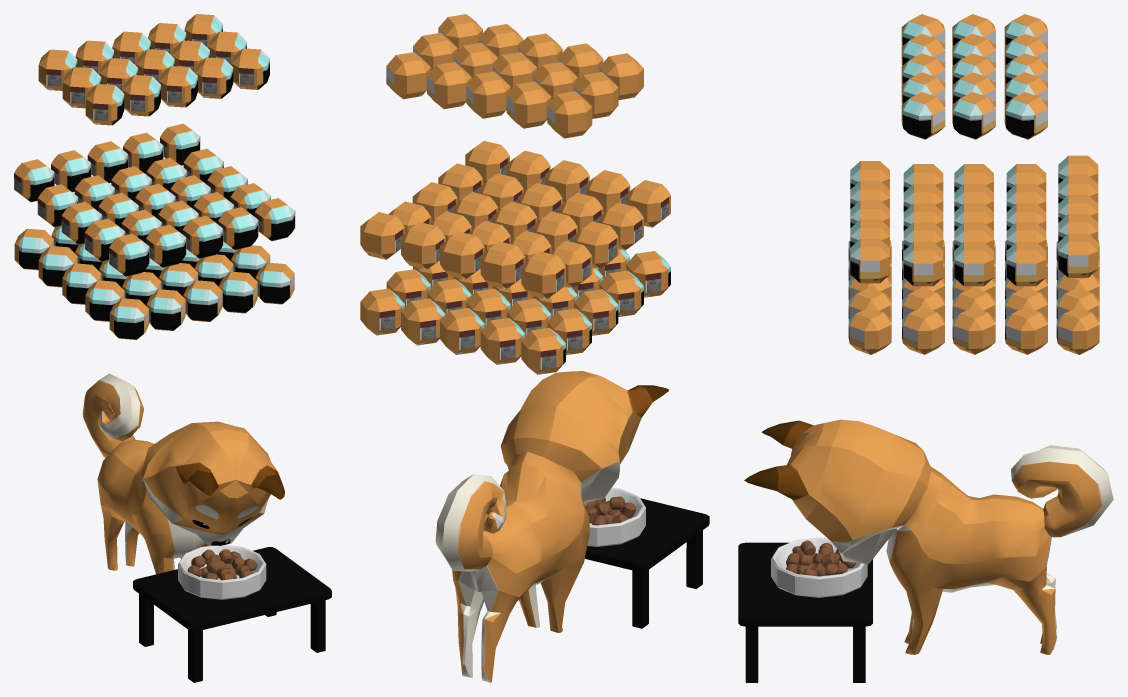
File: fullBowl_frame69.obj
3 views of the same model, side by side, from view 1: azimuth 30°, elevation 25°; view 2: azimuth 150°, elevation 25°; view 3: azimuth 270°, elevation 25° (orthographic). The views are drawn at different scales.
Visible parts, largest first — view 1: newRigging1:BodzL1, Tisch:Tisch:pCube1, FressnapfFull:bulletRigidSetSolved1, FressnapfFull:pCube45, FressnapfFull:pCube46, FressnapfFull:pCube57, FressnapfFull:pCube48, FressnapfFull:pCube50, FressnapfFull:pCube43, FressnapfFull:pCube49, FressnapfFull:pCube42, FressnapfFull:pCube36 (+44 smaller); view 2: newRigging1:BodzL1, Tisch:Tisch:pCube1, FressnapfFull:bulletRigidSetSolved1, FressnapfFull:pCube39, FressnapfFull:pCube51, FressnapfFull:pCube64, FressnapfFull:pCube54, FressnapfFull:pCube37, FressnapfFull:pCube61, FressnapfFull:pCube55, FressnapfFull:pCube53, FressnapfFull:pCube41 (+45 smaller); view 3: newRigging1:BodzL1, Tisch:Tisch:pCube1, FressnapfFull:bulletRigidSetSolved1, FressnapfFull:pCube36, FressnapfFull:pCube4, FressnapfFull:pCube41, FressnapfFull:pCube50, FressnapfFull:pCube55, FressnapfFull:pCube31, FressnapfFull:pCube20, FressnapfFull:pCube10, FressnapfFull:pCube15 (+42 smaller).
Part boxes in pixels (x1=…): newRigging1:BodzL1: x1=82, y1=373, x2=284, y2=574; Tisch:Tisch:pCube1: x1=133, y1=547, x2=331, y2=682; FressnapfFull:bulletRigidSetSolved1: x1=178, y1=545, x2=266, y2=599; FressnapfFull:pCube45: x1=85, y1=84, x2=124, y2=125; FressnapfFull:pCube46: x1=109, y1=298, x2=148, y2=339; FressnapfFull:pCube57: x1=109, y1=233, x2=149, y2=276; FressnapfFull:pCube48: x1=183, y1=280, x2=222, y2=321; FressnapfFull:pCube50: x1=255, y1=262, x2=294, y2=304; FressnapfFull:pCube43: x1=159, y1=66, x2=197, y2=107; FressnapfFull:pCube49: x1=146, y1=289, x2=185, y2=330; FressnapfFull:pCube42: x1=122, y1=75, x2=160, y2=116; FressnapfFull:pCube36: x1=231, y1=48, x2=269, y2=89; newRigging1:BodzL1: x1=435, y1=371, x2=668, y2=682; Tisch:Tisch:pCube1: x1=585, y1=498, x2=709, y2=628; FressnapfFull:bulletRigidSetSolved1: x1=587, y1=487, x2=645, y2=546; FressnapfFull:pCube39: x1=547, y1=91, x2=592, y2=138; FressnapfFull:pCube51: x1=521, y1=327, x2=565, y2=374; FressnapfFull:pCube64: x1=521, y1=251, x2=565, y2=298; FressnapfFull:pCube54: x1=480, y1=318, x2=525, y2=364; FressnapfFull:pCube37: x1=506, y1=81, x2=551, y2=128; FressnapfFull:pCube61: x1=480, y1=241, x2=525, y2=289; FressnapfFull:pCube55: x1=360, y1=288, x2=404, y2=335; FressnapfFull:pCube53: x1=440, y1=308, x2=484, y2=354; FressnapfFull:pCube41: x1=386, y1=52, x2=430, y2=99; newRigging1:BodzL1: x1=744, y1=419, x2=1113, y2=654; Tisch:Tisch:pCube1: x1=738, y1=542, x2=872, y2=682; FressnapfFull:bulletRigidSetSolved1: x1=771, y1=537, x2=867, y2=597; FressnapfFull:pCube36: x1=901, y1=92, x2=945, y2=139; FressnapfFull:pCube4: x1=952, y1=307, x2=995, y2=354; FressnapfFull:pCube41: x1=1004, y1=92, x2=1047, y2=139; FressnapfFull:pCube50: x1=848, y1=307, x2=891, y2=354; FressnapfFull:pCube55: x1=1056, y1=307, x2=1099, y2=354; FressnapfFull:pCube31: x1=952, y1=92, x2=995, y2=139; FressnapfFull:pCube20: x1=1006, y1=242, x2=1046, y2=286; FressnapfFull:pCube10: x1=902, y1=307, x2=944, y2=354; FressnapfFull:pCube15: x1=1005, y1=307, x2=1047, y2=354.
Bounding box in the file's own units: 5.73 × 16.34 × 9.44.
4 materials, 3 textured.
